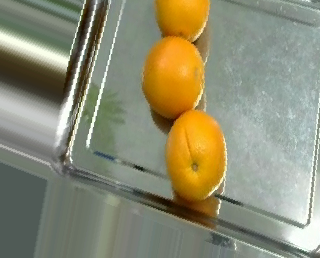Orange: (164, 109, 227, 201), (141, 35, 206, 121), (151, 0, 210, 43)
